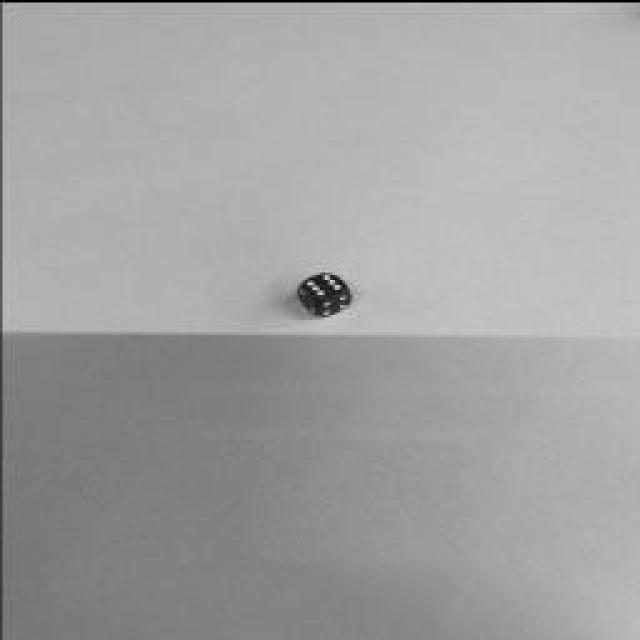dice_6: (303, 272, 345, 296)
